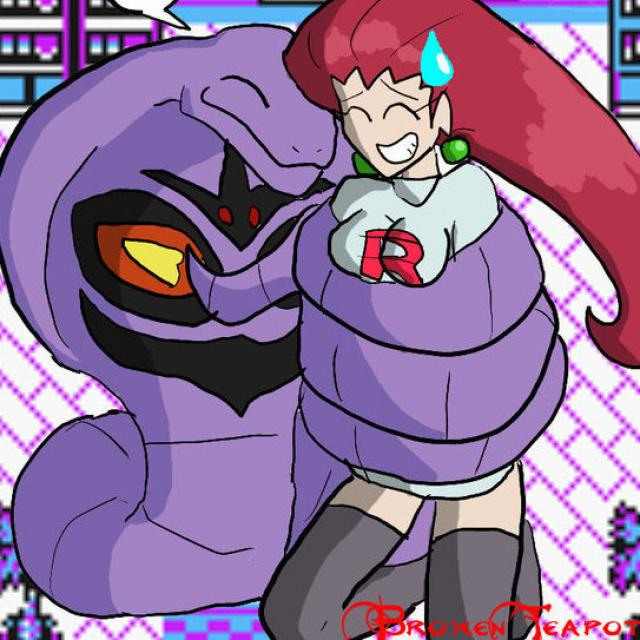Arbok: (14, 20, 333, 600)
